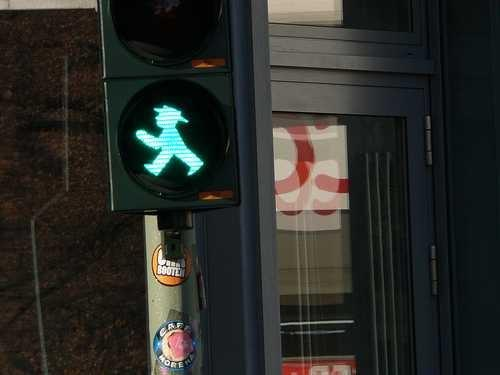green: (104, 79, 243, 209)
